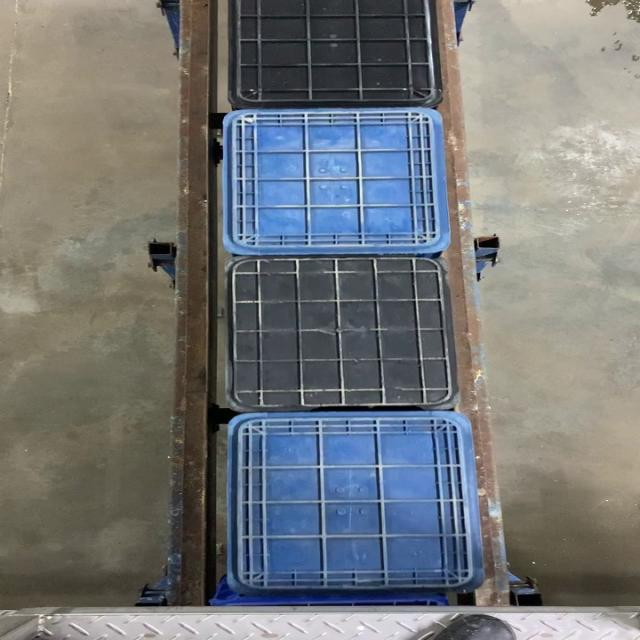Box: (223, 408, 485, 590), (221, 258, 463, 408), (222, 110, 454, 256)
